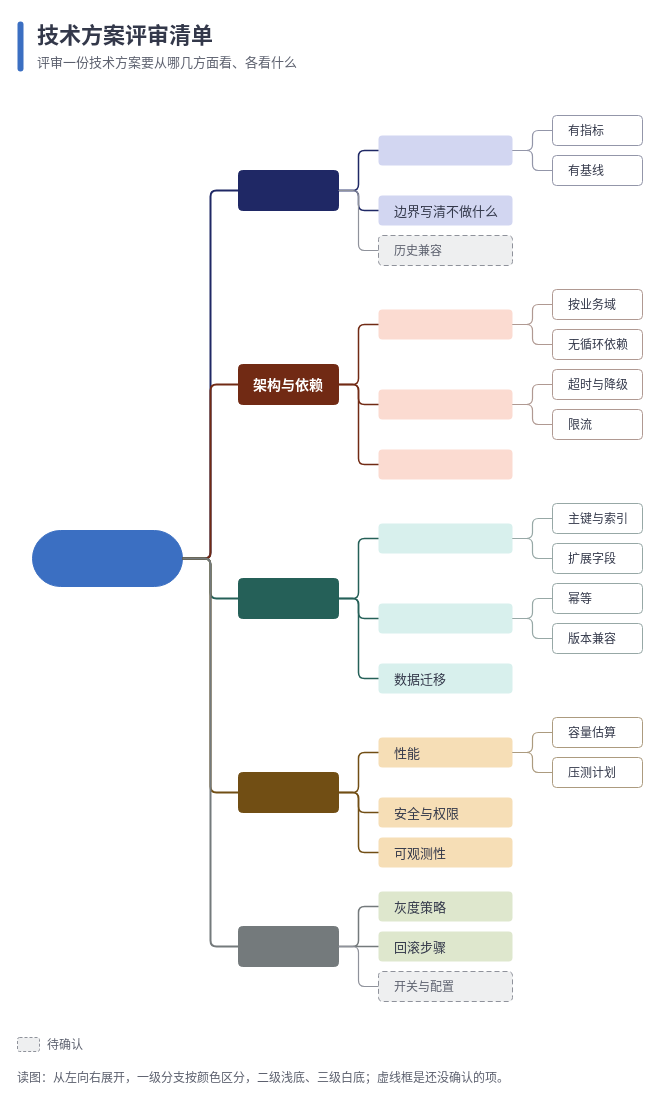
This 660x1104 diagram has some shape labels left out. Here are the shapes that lost their labels. From the top down, the centre of each, then its label:
[445,150]: 目标是否可衡量
[288,190]: 需求与范围
[445,324]: 服务拆分
[445,404]: 外部依赖
[445,464]: 单点与容灾
[107,558]: 方案评审
[445,538]: 表设计
[288,598]: 数据与接口
[445,618]: 接口契约
[288,792]: 非功能
[288,946]: 发布与回滚
